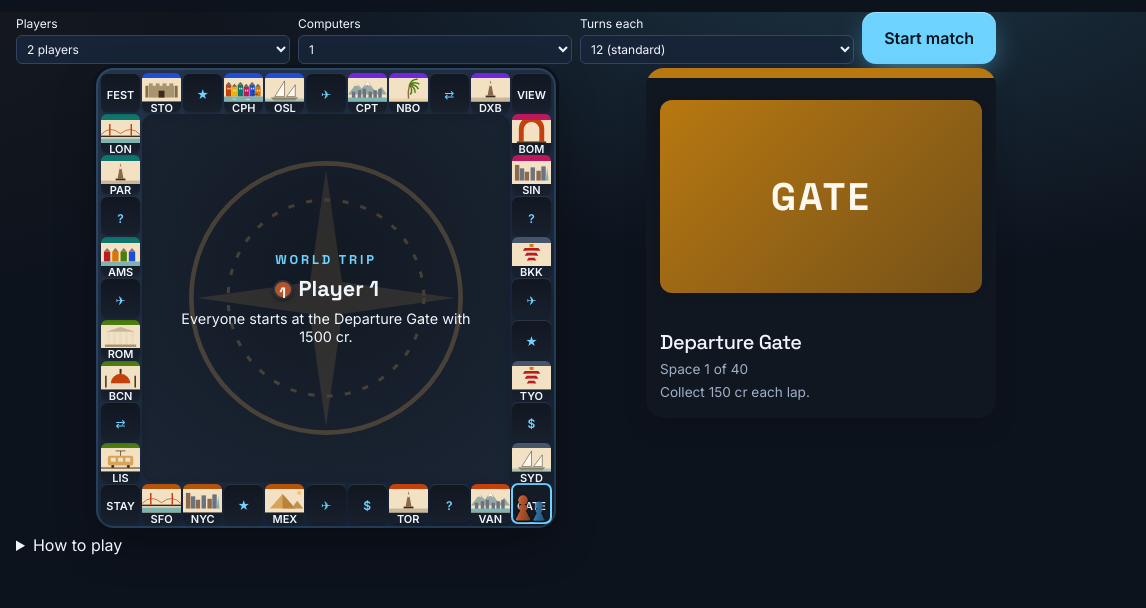
Test case: World Trip UI › draws the 40 spaces and starts a match
Step 1. Select "None" in the dropdown labelled "Computers" → (435, 50), box [298, 35, 572, 64]
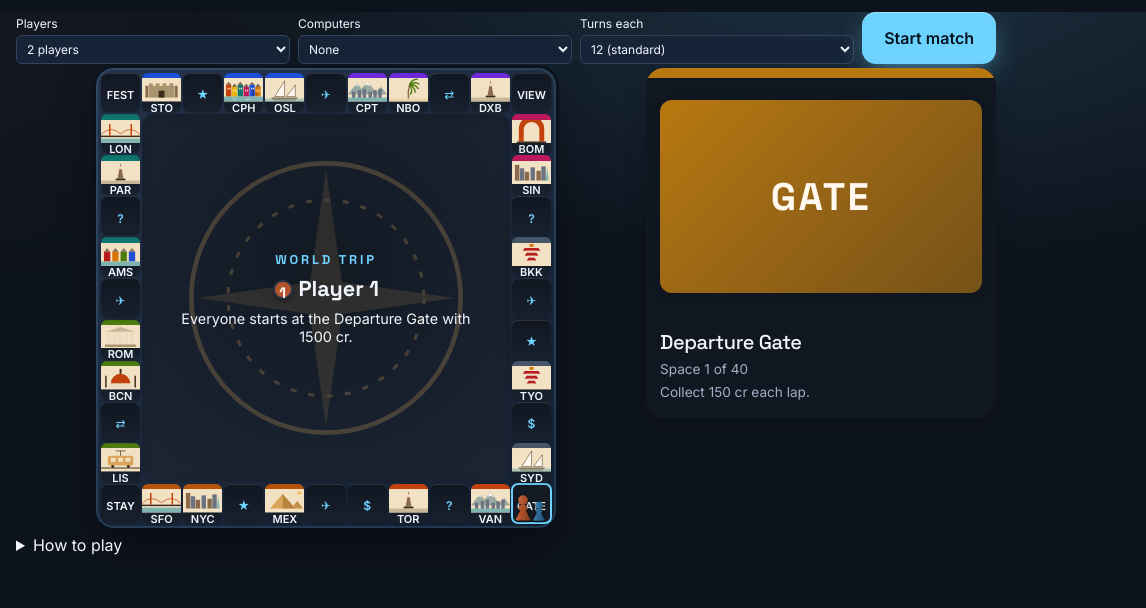
Step 2. Click the button "Start match" → (929, 38), box [862, 12, 996, 64]
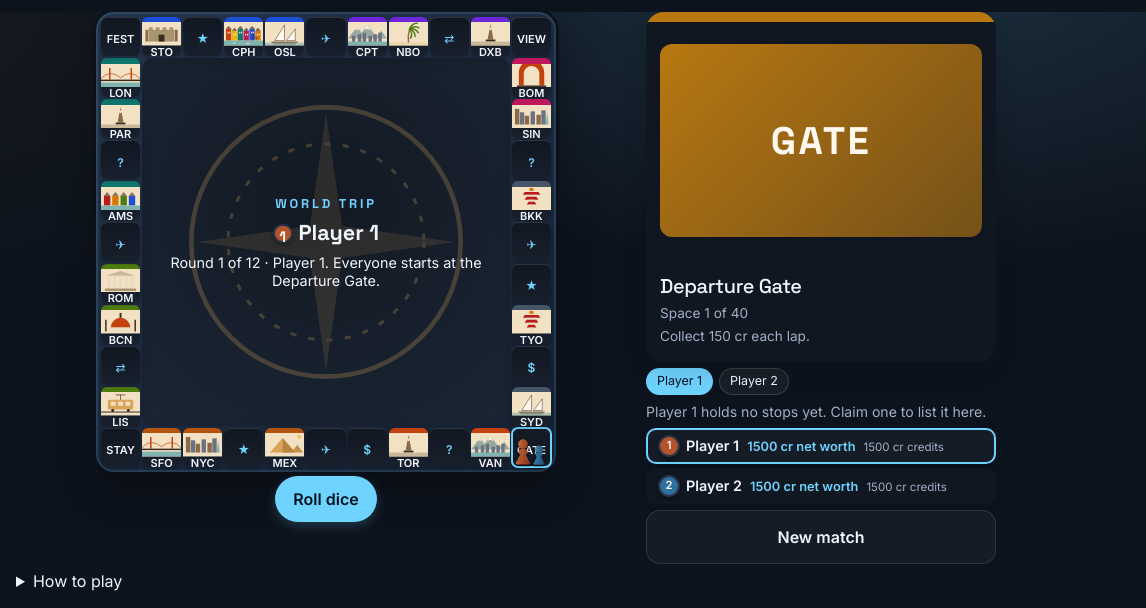
Now the button "Roll dice" is shown, box [275, 476, 377, 522]
